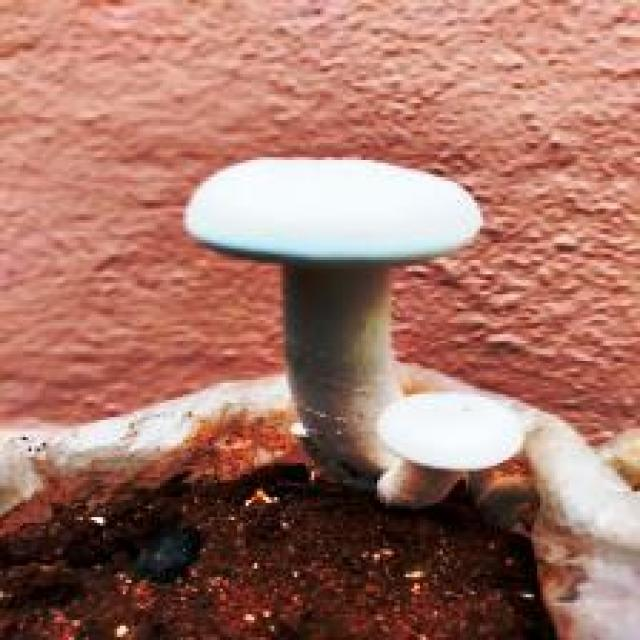field-mushroom: (180, 152, 486, 488)
